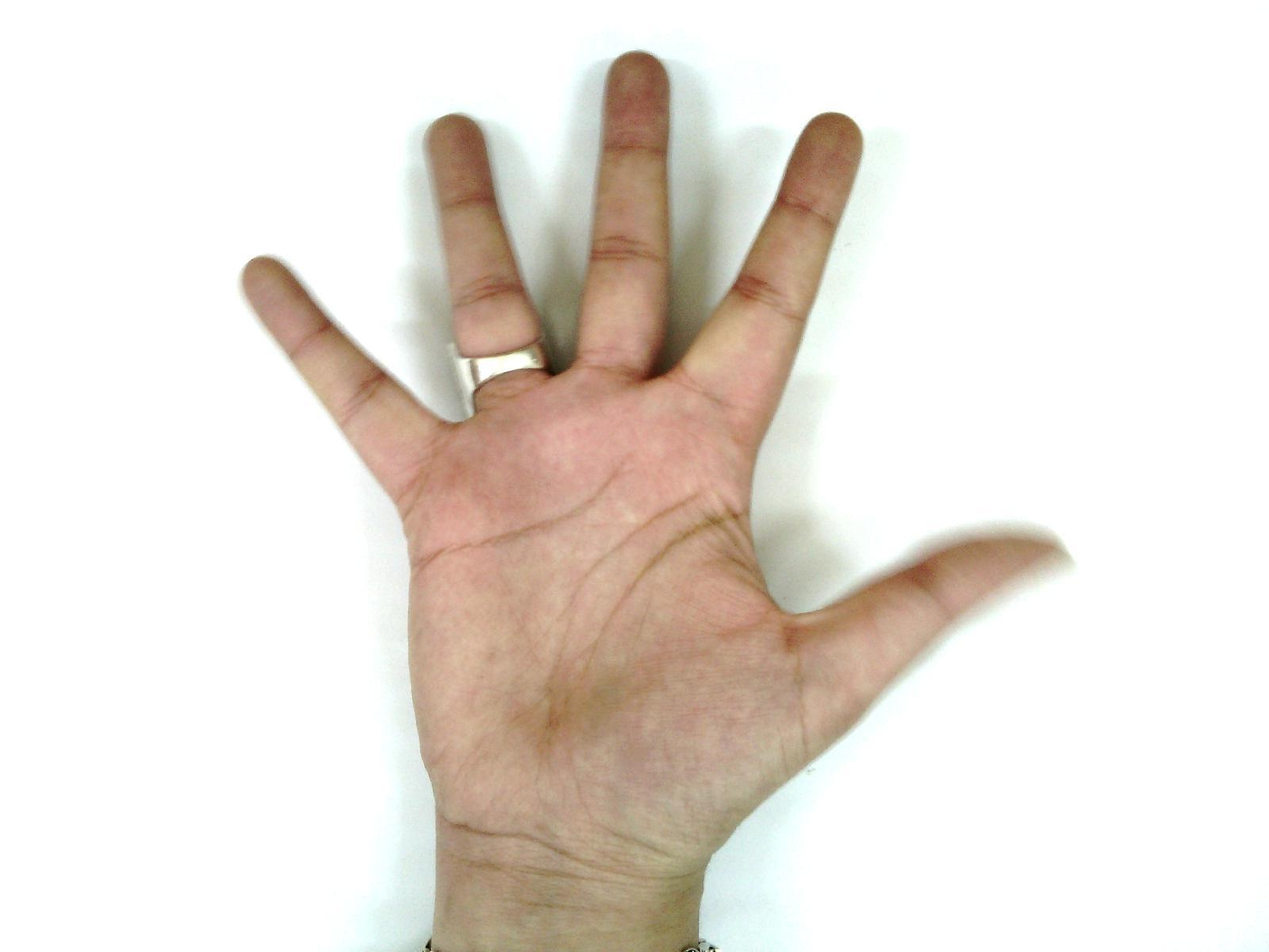open_palm: (236, 48, 1078, 885)
